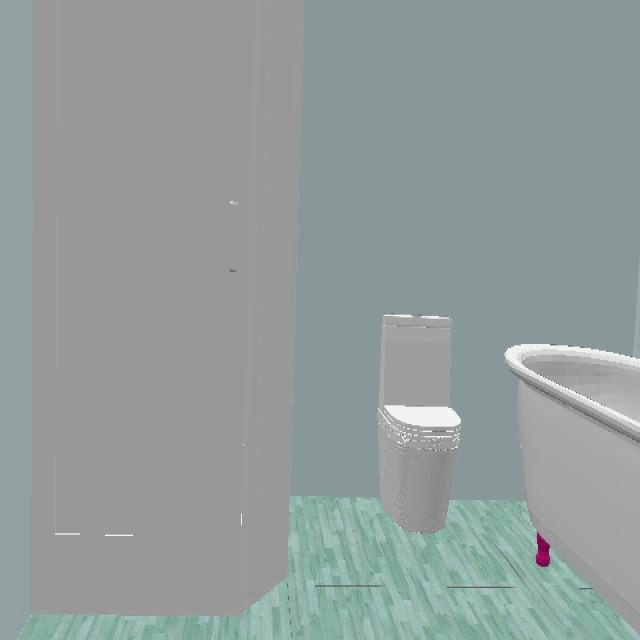bathtube: (504, 344, 640, 637)
shower: (31, 0, 306, 619)
toilet: (377, 315, 462, 536)
